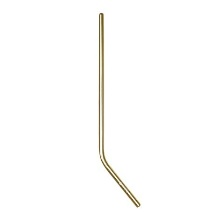drinking_straw: (91, 9, 145, 210)
